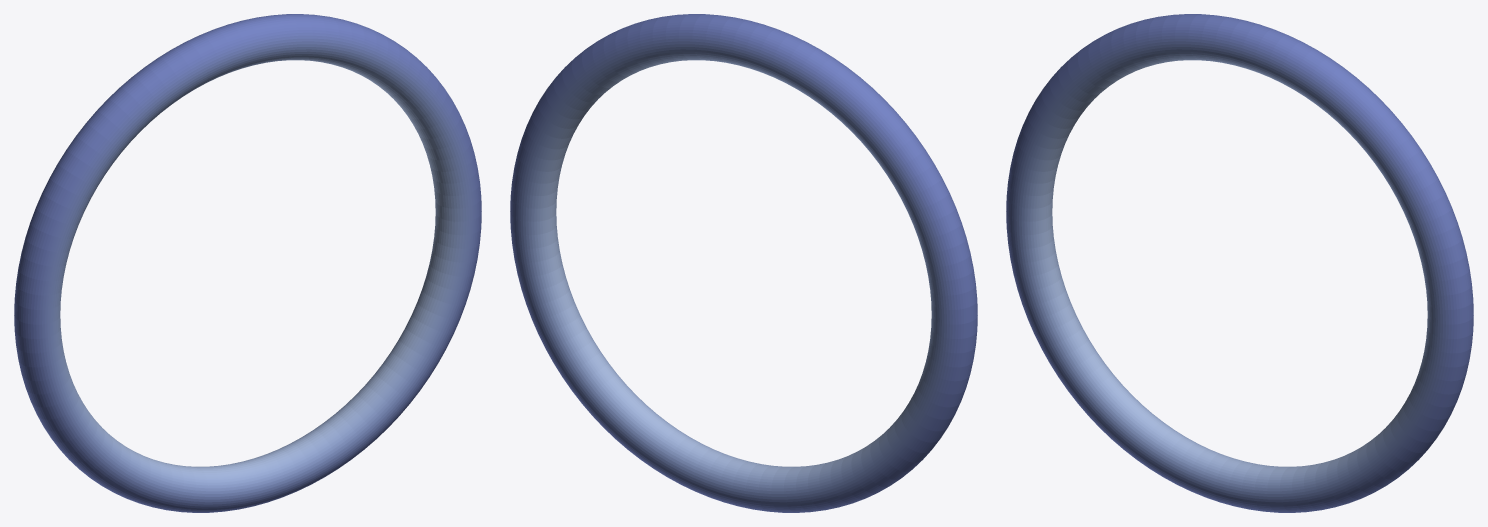
3 views of the same model, side by side, from view 1: azimuth 30°, elevation 25°; view 2: azimuth 150°, elevation 25°; view 3: azimuth 330°, elevation 25° (orthographic).
Parts seen in each view (by area): view 1: world; view 2: world; view 3: world.
Boxes of the visible parts, left/top/right/bottom form: world: left=14, top=14, right=481, bottom=512; world: left=510, top=14, right=977, bottom=512; world: left=1006, top=14, right=1473, bottom=512.
Bounding box in the file's own units: 29.2 × 29.2 × 2.53.
